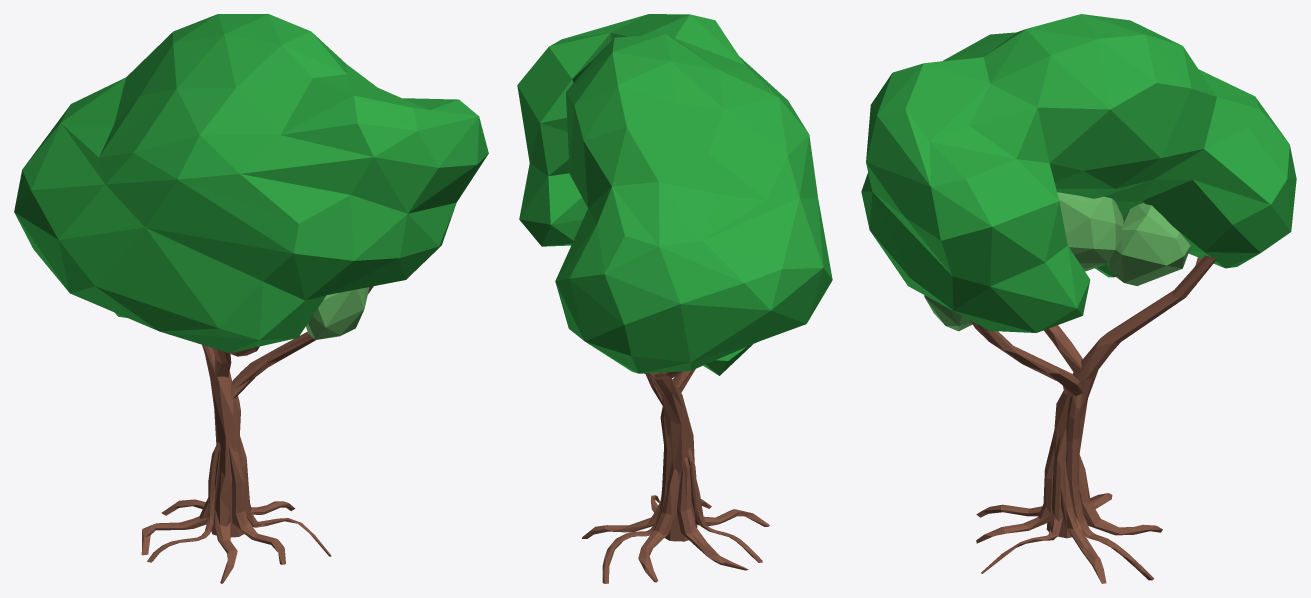
Rendered from tree8.fbx.
The picture shows the model from 3 angles, left to right: view 1: azimuth 30°, elevation 25°; view 2: azimuth 150°, elevation 25°; view 3: azimuth 270°, elevation 25°; orthographic projection. The views are drawn at different scales.
Visible parts, largest first — view 1: tree8_leaves, tree8_trunk; view 2: tree8_leaves, tree8_trunk; view 3: tree8_leaves, tree8_trunk.
Boxes of the visible parts, x1,y1,x2,y2 form: tree8_leaves: [14, 14, 488, 353]; tree8_trunk: [141, 286, 373, 583]; tree8_leaves: [517, 14, 832, 375]; tree8_trunk: [582, 369, 769, 583]; tree8_leaves: [861, 14, 1296, 332]; tree8_trunk: [970, 255, 1216, 583].
Bounding box in the file's own units: 3.58 × 4.94 × 3.54.
